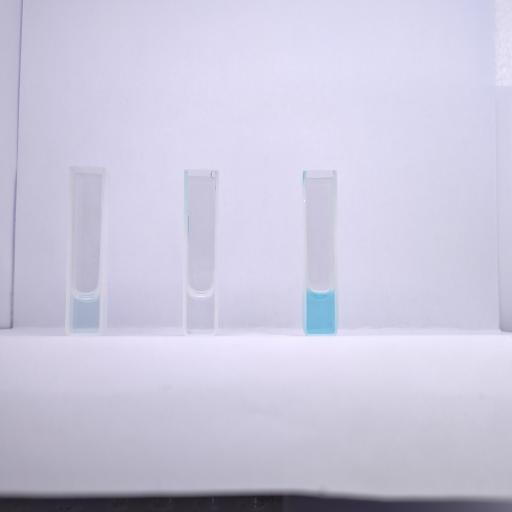cuvette: (64, 164, 108, 338), (181, 167, 220, 337), (302, 166, 340, 336)
liquid: (307, 290, 334, 332), (71, 292, 99, 332), (188, 290, 212, 333)
